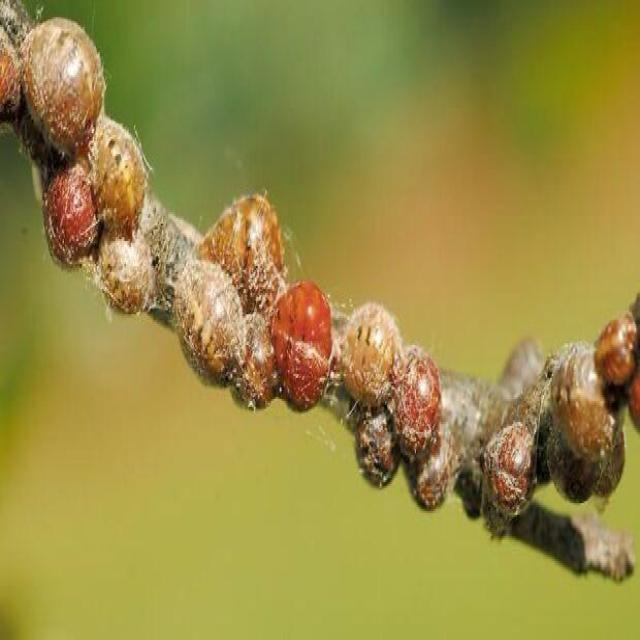BlackScale: (0, 0, 156, 318), (481, 293, 639, 530), (176, 191, 334, 416), (336, 302, 456, 518)
